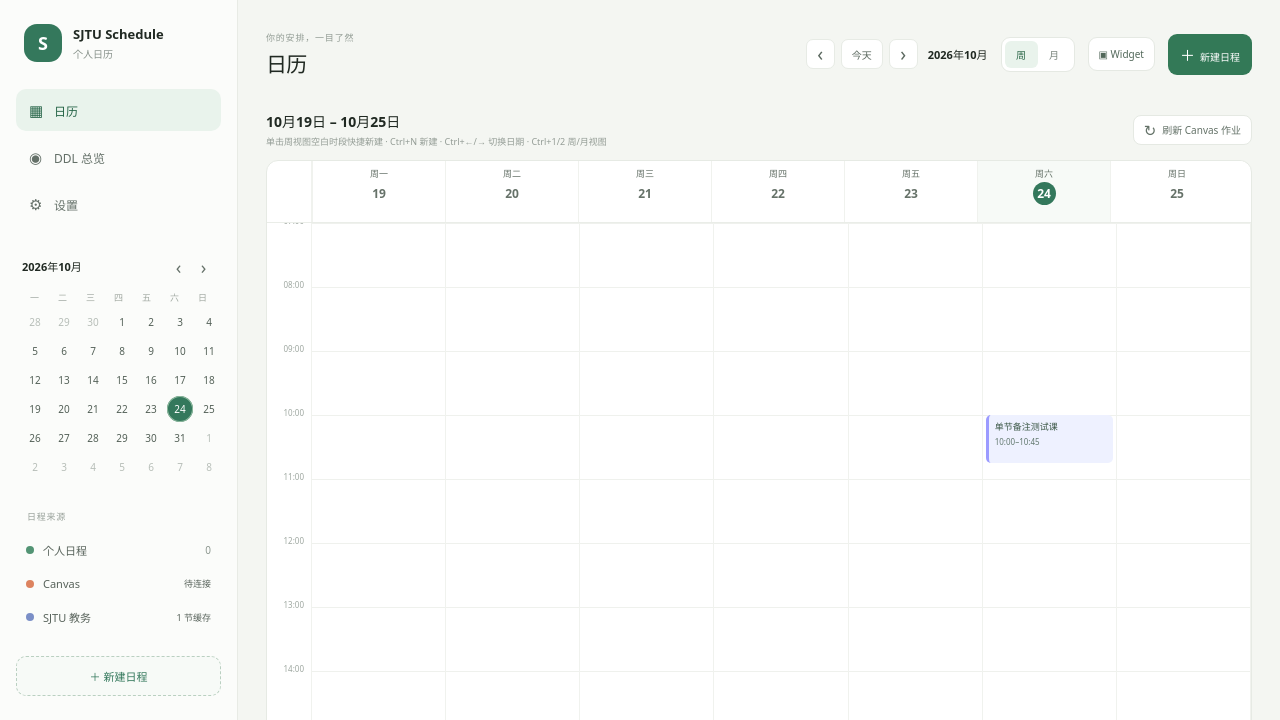
calendar window › saves a note to one dated course occurrence and displays its star
Click the button "单节备注测试课 10:00–10:45": (1049, 439) [986,415,1113,463]
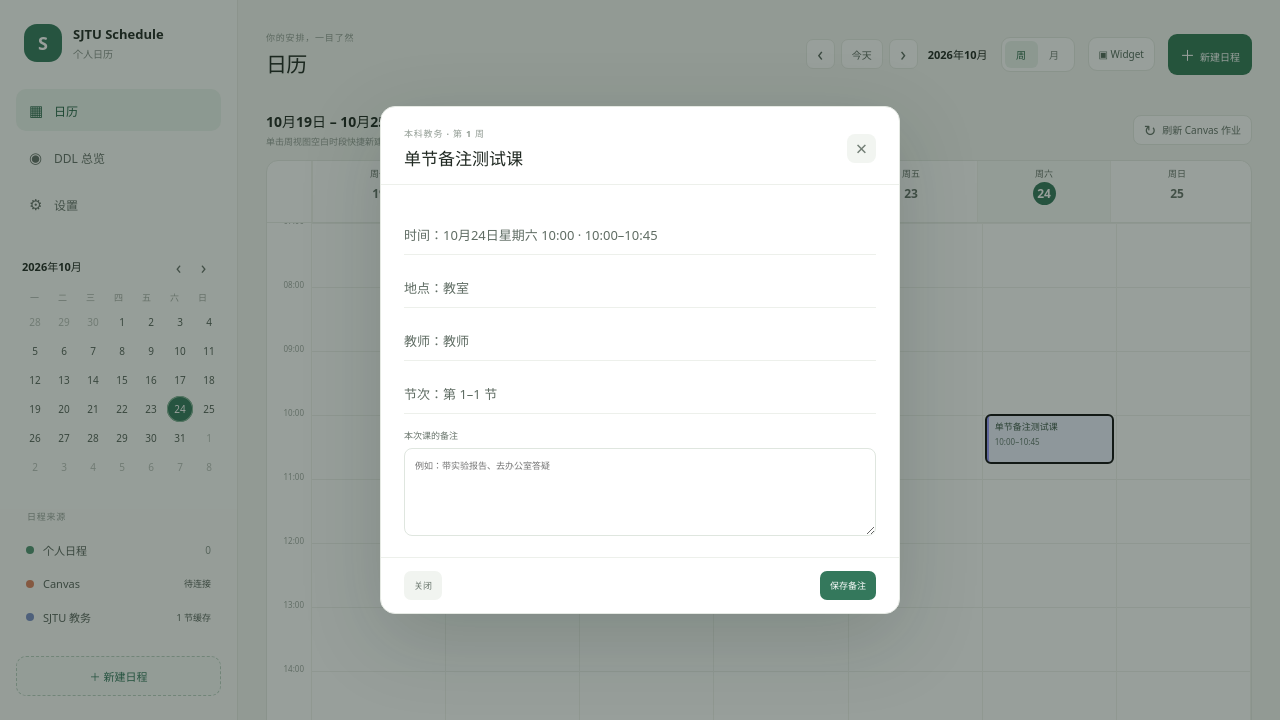
In the text box labelled "本次课的备注": (640, 492) [404,448,876,536], type "带讲义"
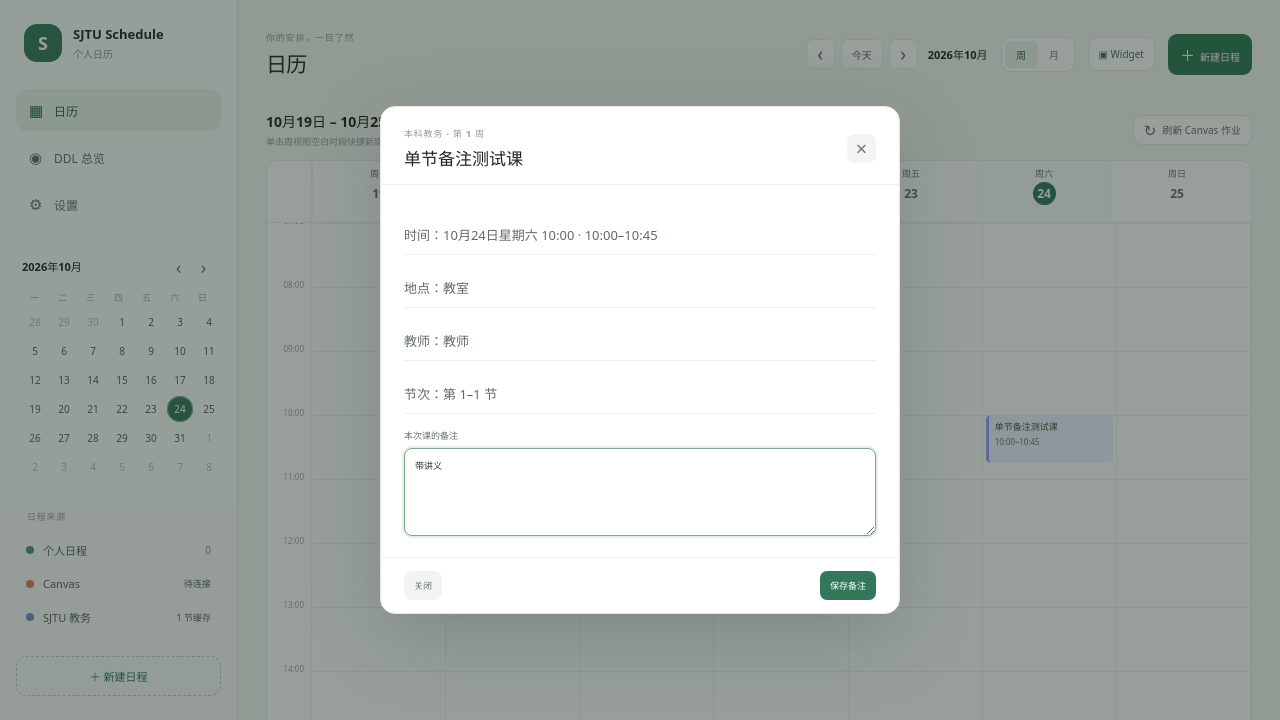
Click the button "保存备注": (848, 586) [820,571,876,600]
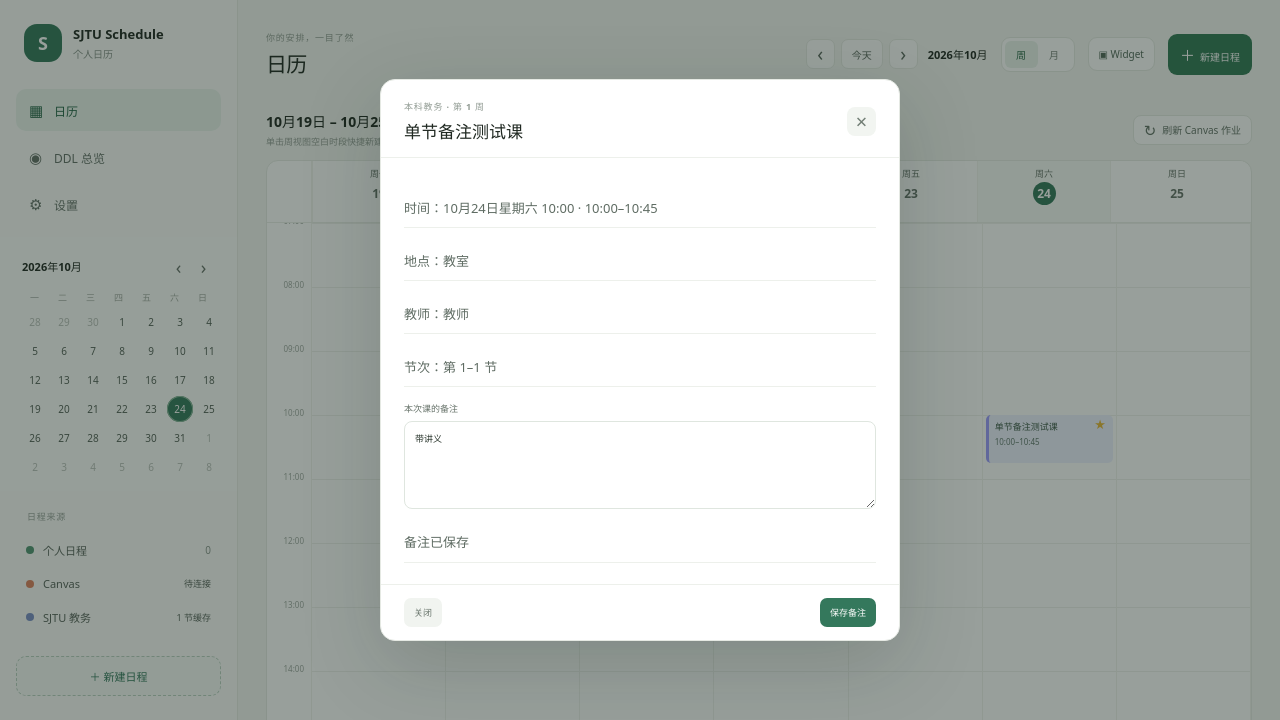
Expected: the text named "含备注" is shown, [1094,418,1106,431]
